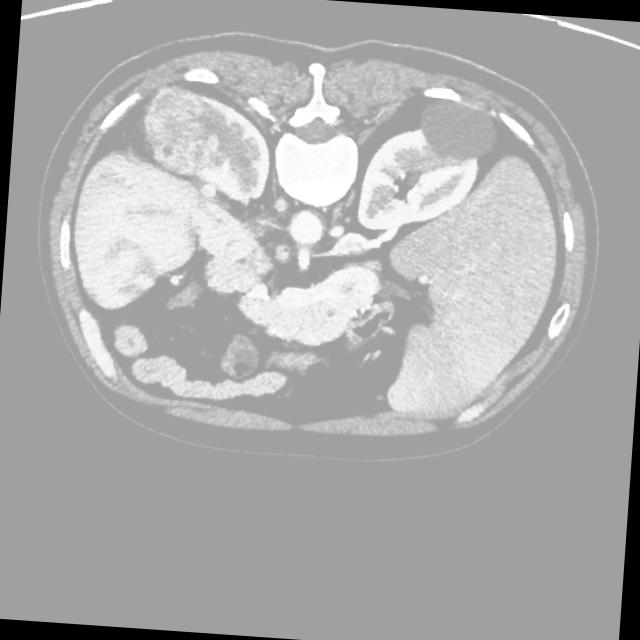TUMOR: (80, 112, 526, 398)
